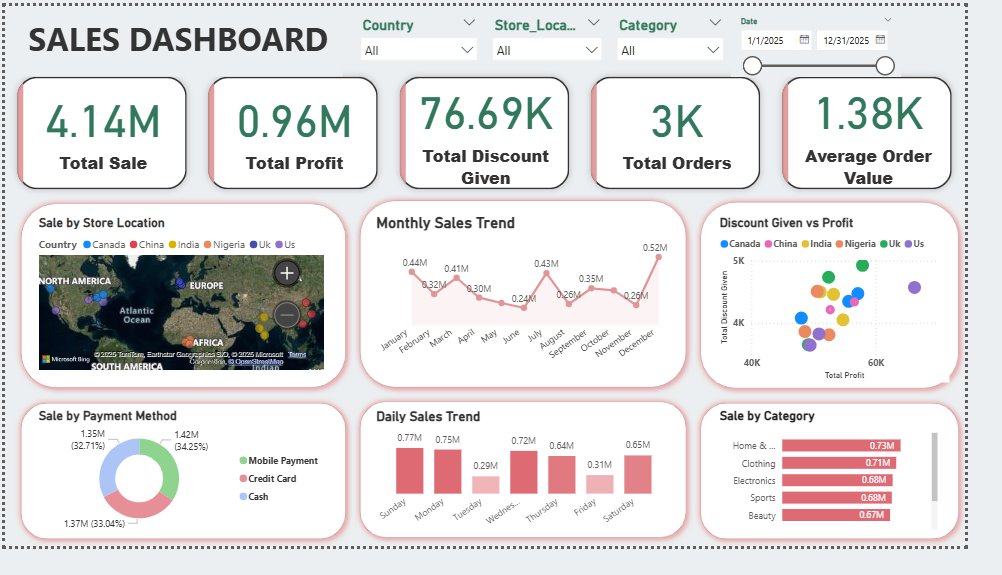

This screenshot's page, from the dashboard's own definition file:
{"tool":"powerbi","page":{"name":"Page 1","canvas":[1280,720],"ordinal":0},"visuals":[{"type":"cardVisual","fields":{"Data":["salesdata.Total Sale","salesdata.Total Profit","salesdata.Total Discount Given","salesdata.Total Orders","salesdata.Average Order Value"]},"box":[0,78.6,1280.4,182.1],"z":0},{"type":"textbox","box":[26,8,424,86],"z":1000},{"type":"slicer","fields":{"Values":["salesdata.Country"]},"box":[464,8,176,72],"z":2000},{"type":"slicer","fields":{"Values":["salesdata.Store_Location"]},"box":[640,8,166,72],"z":3000},{"type":"shape","box":[12.5,253.6,451.8,264.3],"z":4000},{"type":"slicer","fields":{"Values":["salesdata.Category"]},"box":[806,8,162,72],"z":5000},{"type":"map","title":"Sale by Store Location","fields":{"Category":["salesdata.Store_Location"],"Size":["salesdata.Total Sale"],"Series":["salesdata.Country"]},"box":[39.3,278.6,391.1,212.5],"z":6000},{"type":"slicer","fields":{"Values":["salesdata.Date"]},"box":[968.8,7.8,226.6,85.9],"z":7000},{"type":"shape","box":[464.3,250,453.6,267.9],"z":8000},{"type":"stackedAreaChart","title":"Monthly Sales Trend","fields":{"Y":["salesdata.Total Sale"],"Category":["salesdata.Date.Variation.Date Hierarchy.Month"]},"box":[489.3,276.8,398.2,212.5],"z":9000},{"type":"shape","box":[464.3,517.9,453.6,200],"z":10000},{"type":"columnChart","title":"Daily Sales Trend","fields":{"Y":["salesdata.Total Sale"],"Category":["salesdata.Day"]},"box":[489.3,535.7,398.2,167.9],"z":11000},{"type":"shape","box":[12.5,519.6,451.8,200],"z":12000},{"type":"donutChart","title":"Sale by Payment Method","fields":{"Category":["salesdata.Payment_Method"],"Y":["salesdata.Total Sale"]},"box":[39.3,535.7,391.1,167.9],"z":13000},{"type":"shape","box":[917.1,252.9,362.9,267.1],"z":14000},{"type":"scatterChart","title":"Discount Given vs Profit","fields":{"Category":["salesdata.Store_Location"],"X":["salesdata.Total Profit"],"Y":["salesdata.Total Discount Given"],"Series":["salesdata.Country"]},"box":[947.1,277.1,311.4,224.3],"z":15000},{"type":"shape","box":[917.1,520,362.9,200],"z":15001},{"type":"barChart","title":"Sale by Category","fields":{"Category":["salesdata.Category"],"Y":["salesdata.Total Sale"]},"box":[948.6,535.7,300,167.1],"z":15002}]}

Visuals, with their boxes in screenshot pixels (x1, y1, x2, y2), scaled from the page's 1280x720 canvas onto the 1002x575 screenshot:
cardVisual - salesdata.Total Sale x salesdata.Total Profit: x1=0, y1=63, x2=1001, y2=208
textbox: x1=20, y1=6, x2=352, y2=75
slicer - salesdata.Country: x1=363, y1=6, x2=501, y2=64
slicer - salesdata.Store_Location: x1=501, y1=6, x2=631, y2=64
shape: x1=10, y1=203, x2=363, y2=414
slicer - salesdata.Category: x1=631, y1=6, x2=758, y2=64
"Sale by Store Location" map: x1=31, y1=222, x2=337, y2=392
slicer - salesdata.Date: x1=758, y1=6, x2=936, y2=75
shape: x1=363, y1=200, x2=719, y2=414
"Monthly Sales Trend" stackedAreaChart: x1=383, y1=221, x2=695, y2=391
shape: x1=363, y1=414, x2=719, y2=573
"Daily Sales Trend" columnChart: x1=383, y1=428, x2=695, y2=562
shape: x1=10, y1=415, x2=363, y2=574
"Sale by Payment Method" donutChart: x1=31, y1=428, x2=337, y2=562
shape: x1=718, y1=202, x2=1001, y2=415
"Discount Given vs Profit" scatterChart: x1=741, y1=221, x2=985, y2=400
shape: x1=718, y1=415, x2=1001, y2=574
"Sale by Category" barChart: x1=743, y1=428, x2=977, y2=561
